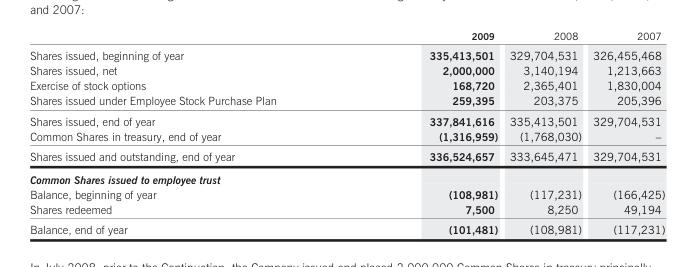table: (29, 28, 664, 235)
table column: (29, 28, 352, 235), (352, 28, 503, 235), (503, 28, 586, 235), (586, 28, 664, 235)
table column header: (29, 28, 664, 44)
table projected row header: (29, 167, 664, 185)
table row: (29, 145, 664, 167), (29, 44, 664, 62), (29, 92, 664, 110), (29, 127, 664, 145), (29, 167, 664, 185), (29, 110, 664, 127), (29, 201, 664, 218), (29, 218, 664, 235), (29, 28, 664, 44), (29, 185, 664, 201), (29, 62, 664, 77), (29, 77, 664, 92)
